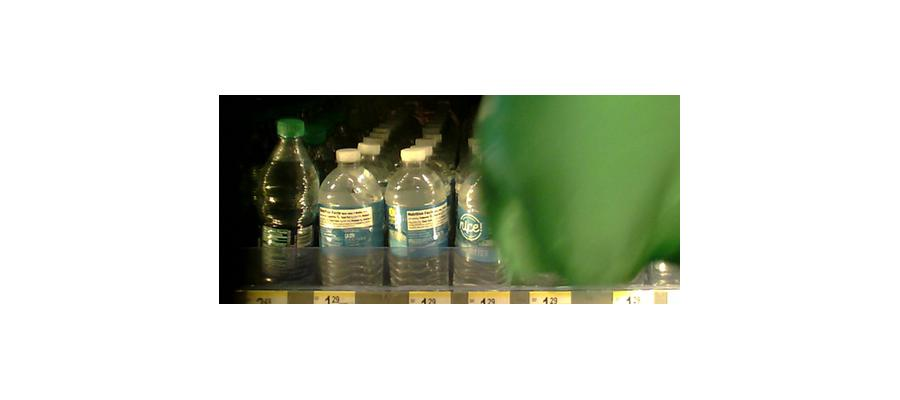bottle: (257, 117, 318, 286), (319, 140, 383, 289), (386, 146, 448, 287), (454, 118, 504, 285)
